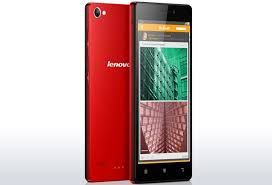lenovo: (124, 1, 194, 185)
